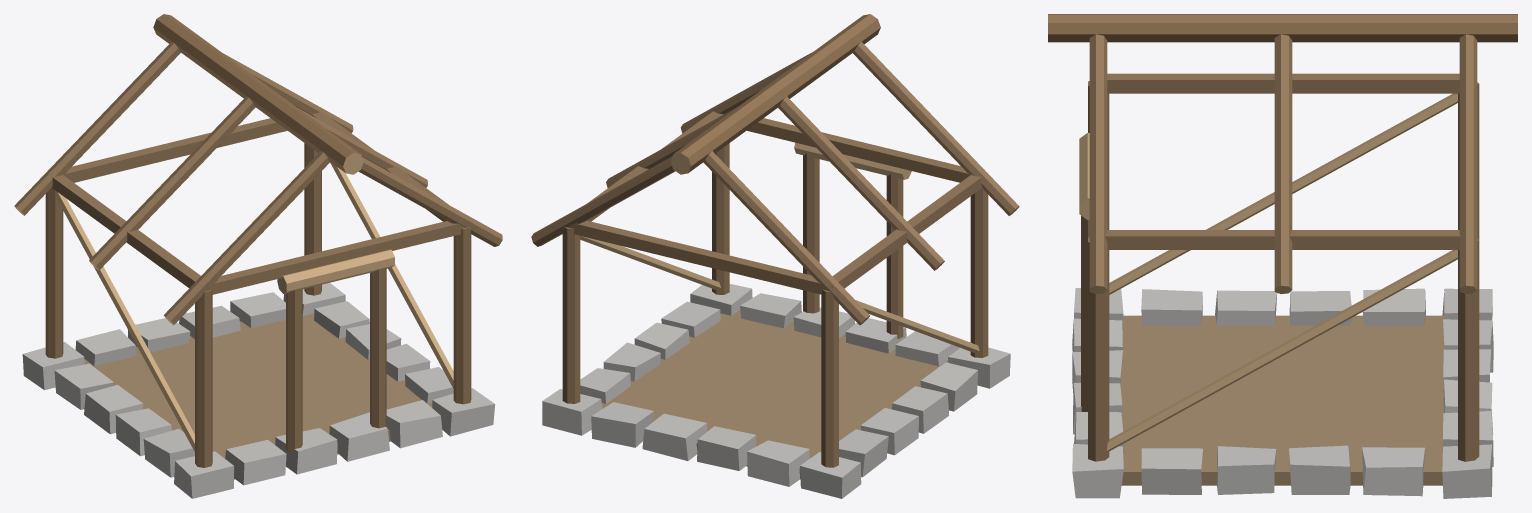
Rendered from building_stone_house_frame.glb.
3 views of the same model, side by side, from view 1: azimuth 30°, elevation 25°; view 2: azimuth 150°, elevation 25°; view 3: azimuth 270°, elevation 25° (orthographic). The views are drawn at different scales.
Visible parts, largest first — view 1: building_stone_house_frame; view 2: building_stone_house_frame; view 3: building_stone_house_frame.
Part boxes in pixels (left/top/right/bottom): building_stone_house_frame: left=14, top=14, right=502, bottom=498; building_stone_house_frame: left=531, top=14, right=1019, bottom=498; building_stone_house_frame: left=1048, top=14, right=1517, bottom=498.
Bounding box in the file's own units: 3.85 × 3.47 × 3.76.
